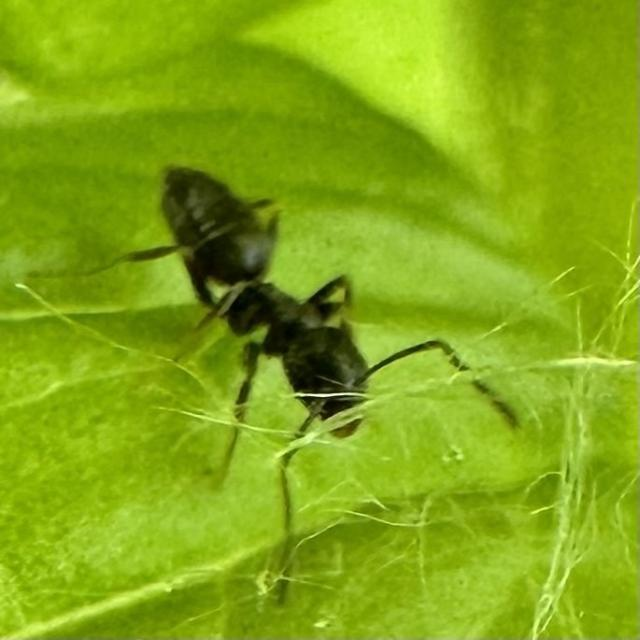Tapinoma: (114, 135, 424, 489)
